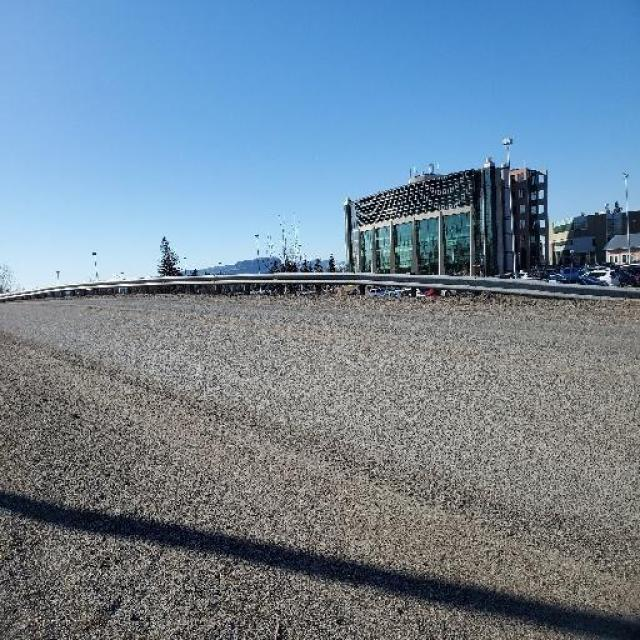Guard rail: (0, 274, 640, 305)
